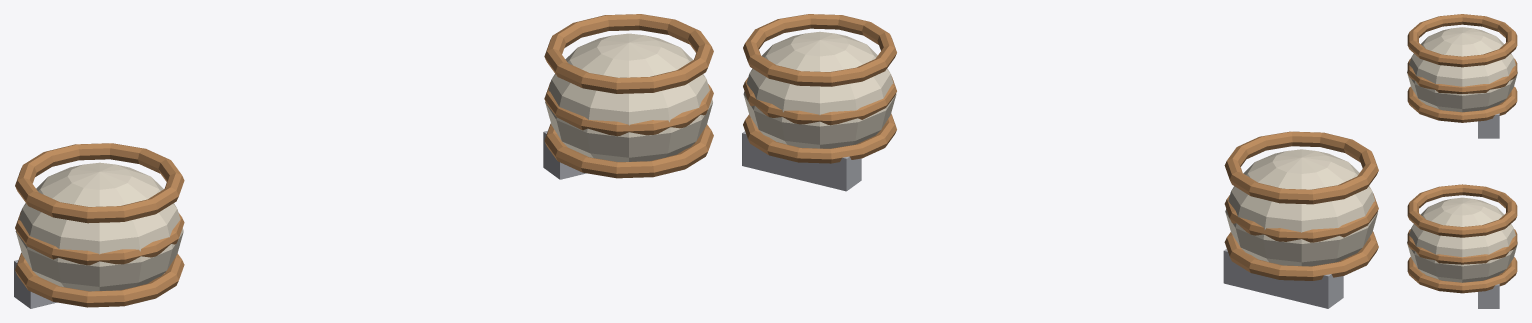
File: cowl-shroud.glb
3 renders of one model, left to right at view 1: azimuth 30°, elevation 25°; view 2: azimuth 150°, elevation 25°; view 3: azimuth 270°, elevation 25°, orthographic. The views are drawn at different scales.
Visible parts, largest first — view 1: cap_l, cap_r, rib2_r, rib2_l, rib0_r, rib0_l, rib1_r, rib1_l, lip_l, lip_r; view 2: cap_r, cap_l, rib2_l, rib2_r, lip_r, lip_l, rib0_l, rib0_r, rib1_l, rib1_r; view 3: cap_l, cap_r, rib2_r, rib2_l, rib0_l, rib0_r, rib1_l, rib1_r, lip_r, lip_l.
Part boxes in pixels (left/top/right/bottom): cap_l: left=545, top=33, right=712, bottom=161; cap_r: left=15, top=162, right=183, bottom=291; rib2_r: left=15, top=143, right=184, bottom=223; rib2_l: left=544, top=14, right=713, bottom=93; rib0_r: left=15, top=252, right=184, bottom=307; rib0_l: left=544, top=123, right=713, bottom=178; rib1_r: left=15, top=211, right=184, bottom=265; rib1_l: left=544, top=82, right=713, bottom=136; lip_l: left=543, top=130, right=585, bottom=179; lip_r: left=14, top=260, right=56, bottom=308; cap_r: left=1225, top=149, right=1378, bottom=266; cap_l: left=743, top=31, right=896, bottom=148; rib2_l: left=743, top=14, right=896, bottom=86; rib2_r: left=1224, top=131, right=1378, bottom=204; lip_r: left=1223, top=248, right=1343, bottom=308; lip_l: left=742, top=131, right=861, bottom=191; rib0_l: left=743, top=113, right=896, bottom=163; rib0_r: left=1224, top=231, right=1378, bottom=280; rib1_l: left=743, top=76, right=896, bottom=125; rib1_r: left=1224, top=193, right=1378, bottom=242; cap_l: left=1407, top=197, right=1517, bottom=282; cap_r: left=1407, top=27, right=1517, bottom=112; rib2_r: left=1407, top=14, right=1517, bottom=67; rib2_l: left=1407, top=184, right=1517, bottom=237; rib0_l: left=1407, top=257, right=1517, bottom=293; rib0_r: left=1407, top=86, right=1517, bottom=122; rib1_l: left=1407, top=229, right=1517, bottom=264; rib1_r: left=1407, top=58, right=1517, bottom=93; lip_r: left=1478, top=113, right=1499, bottom=138; lip_l: left=1478, top=284, right=1499, bottom=308.
Size of the model in its own units: 1.18 by 0.219 by 0.253.
